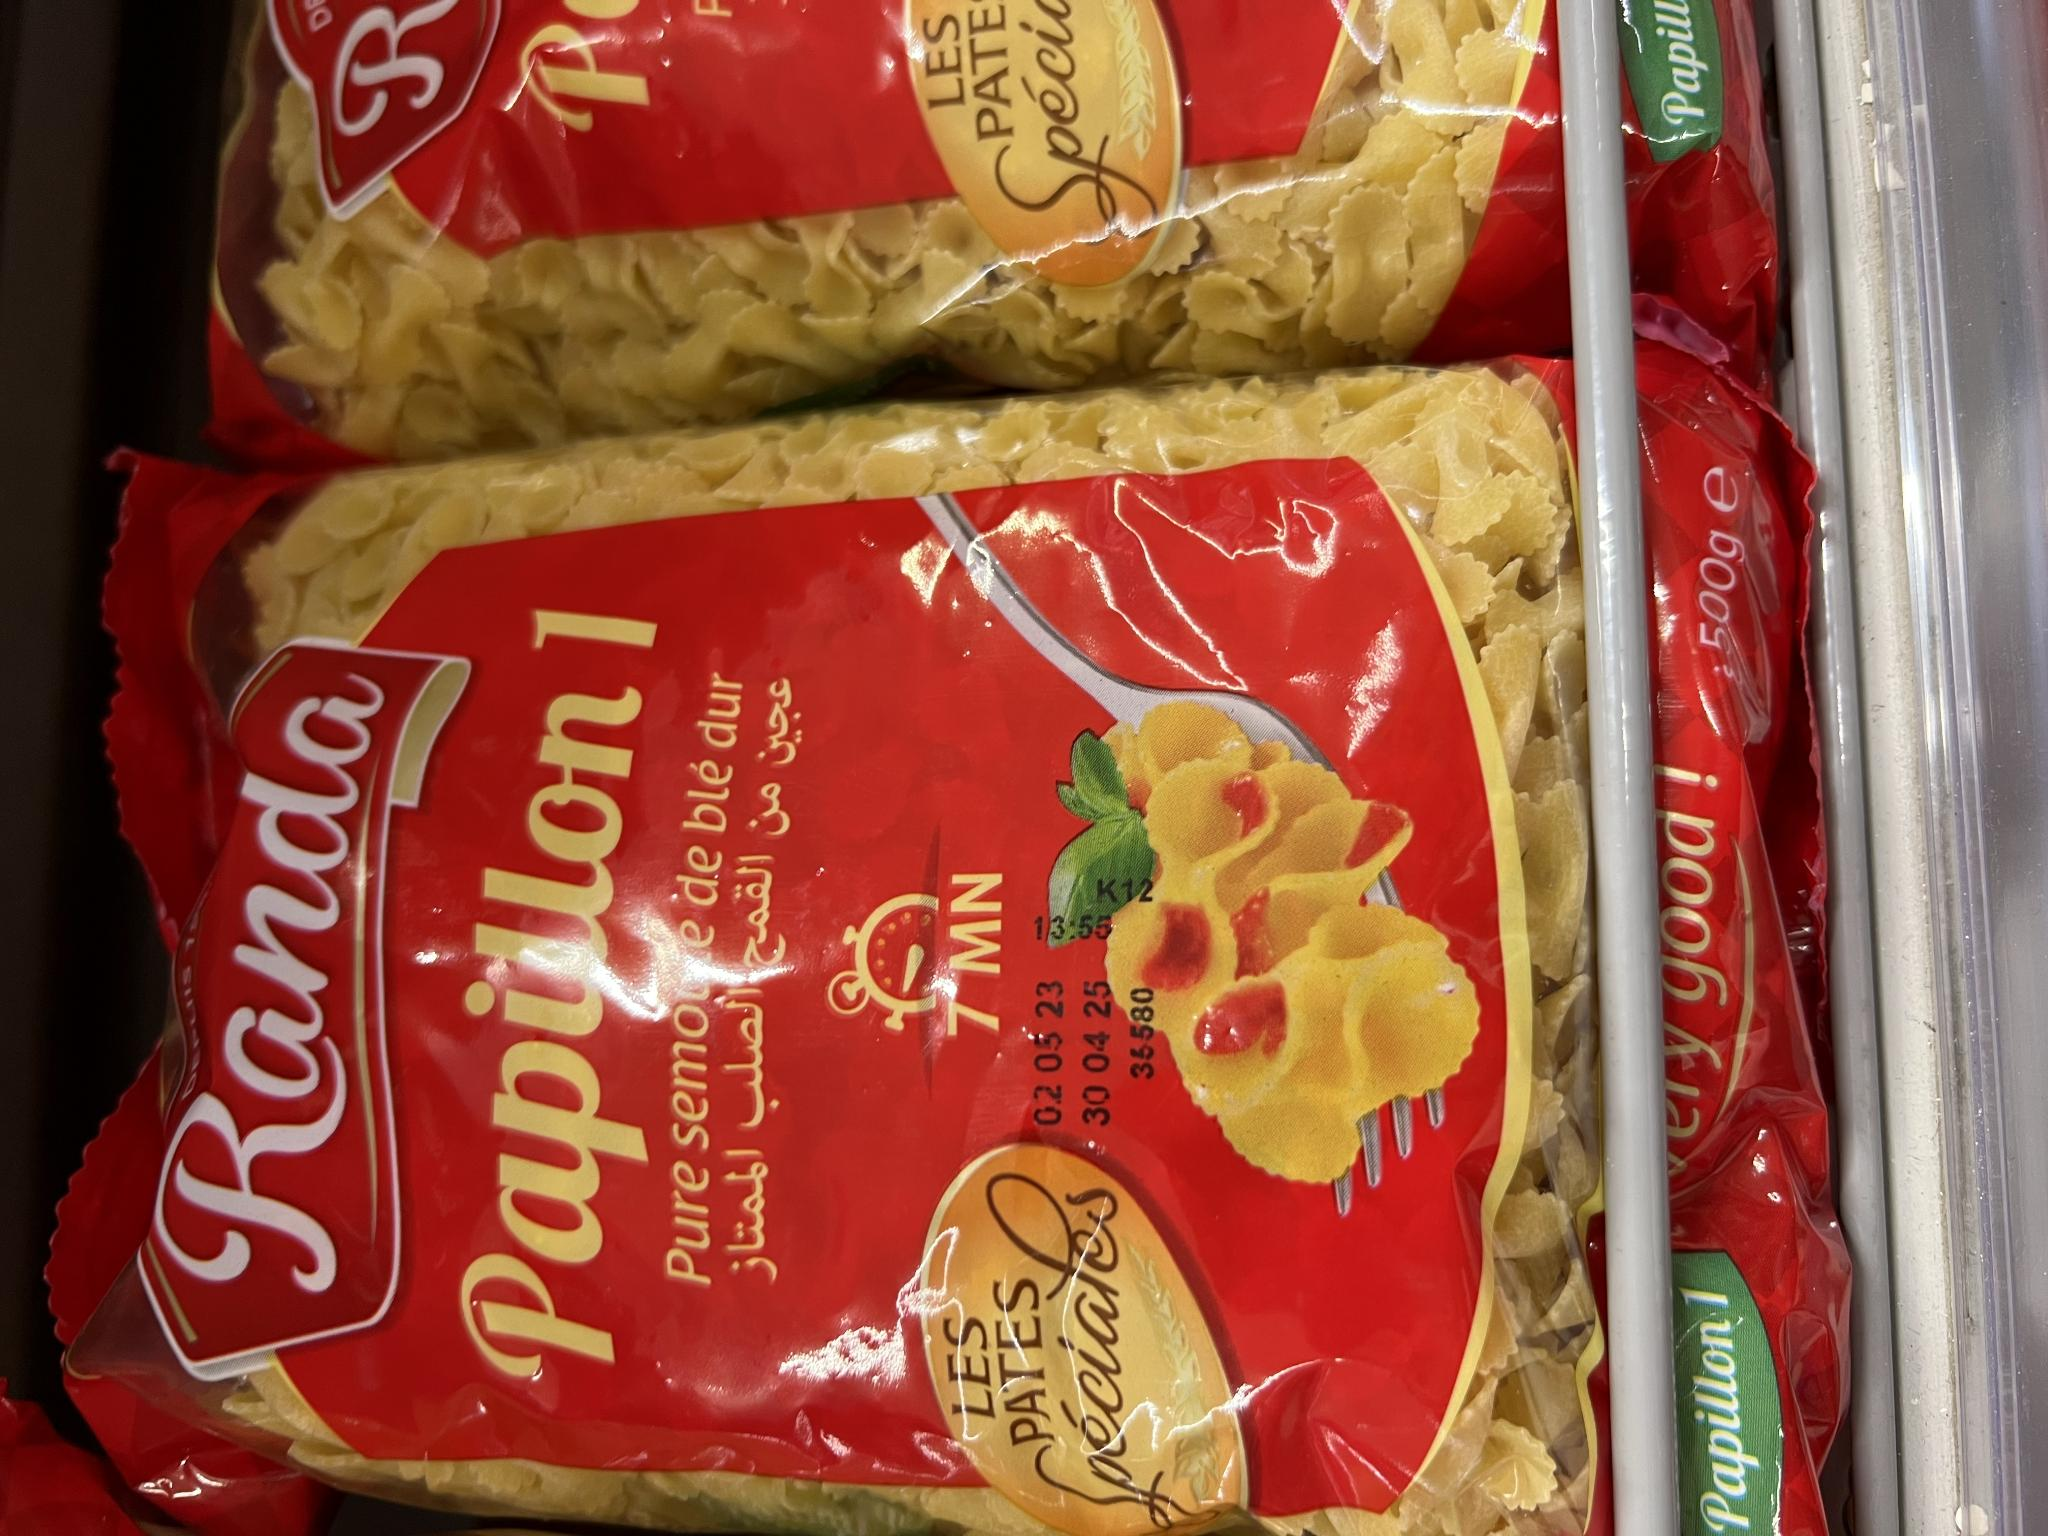Papillon: (139, 376, 1838, 1528)
